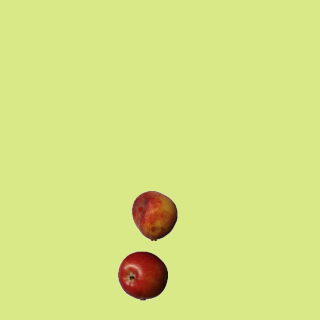Apple Braeburn: (117, 250, 167, 300)
Peach: (129, 190, 179, 240)
